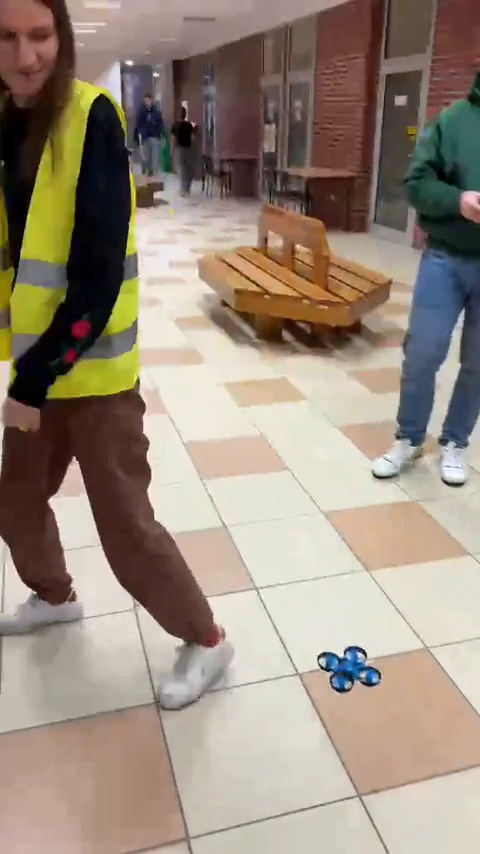drone: (319, 643, 379, 691)
no vest: (380, 58, 480, 501), (171, 98, 205, 193), (128, 93, 163, 175)
vest: (0, 1, 231, 709)
